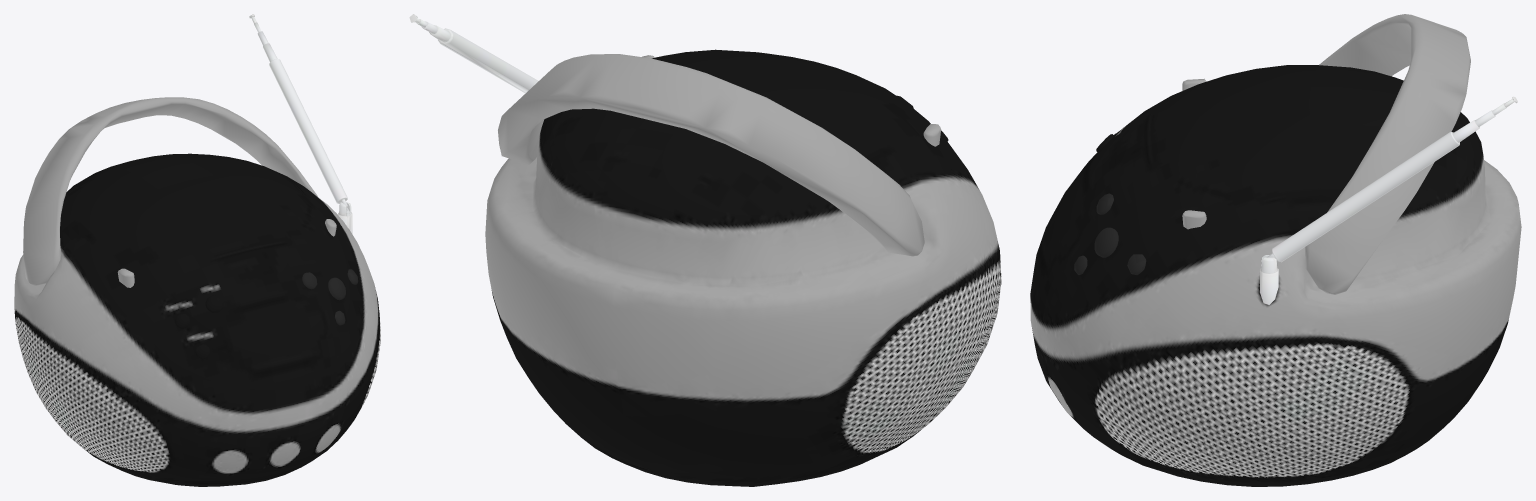
File: BoomBox.glb
3 views of the same model, side by side, from view 1: azimuth 30°, elevation 25°; view 2: azimuth 150°, elevation 25°; view 3: azimuth 270°, elevation 25° (orthographic). The views are drawn at different scales.
Parts seen in each view (by area): view 1: BoomBox; view 2: BoomBox; view 3: BoomBox.
Part boxes in pixels (x1,y1,x2,y2): BoomBox: (14, 14, 380, 486); BoomBox: (409, 14, 1001, 486); BoomBox: (1030, 14, 1521, 486).
Size of the model in its own units: 0.0198 by 0.0195 by 0.0202.
1 material, 1 textured.
